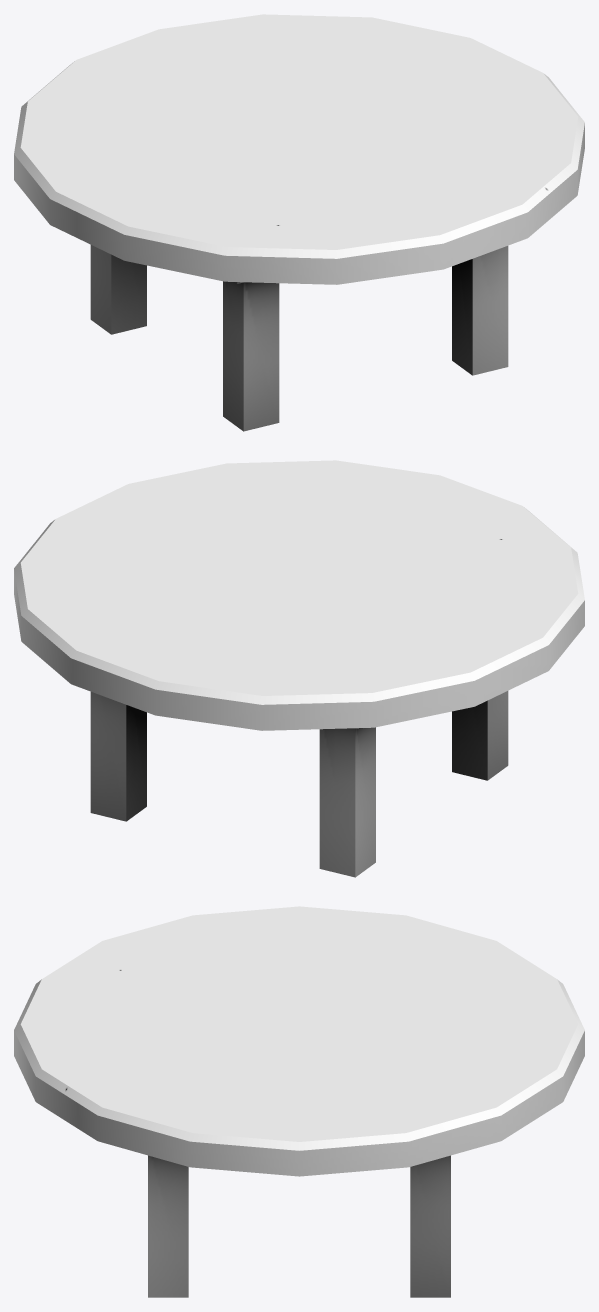
Rendered from Table01.fbx.
3 renders of one model, top to bottom at view 1: azimuth 30°, elevation 25°; view 2: azimuth 150°, elevation 25°; view 3: azimuth 270°, elevation 25°, orthographic.
Visible parts, largest first — view 1: Table01; view 2: Table01; view 3: Table01.
Boxes of the visible parts, x1,y1,x2,y2 form: Table01: [14, 14, 584, 431]; Table01: [14, 460, 584, 877]; Table01: [14, 906, 584, 1297].
Size of the model in its own units: 98.02 by 39.65 by 98.02.
